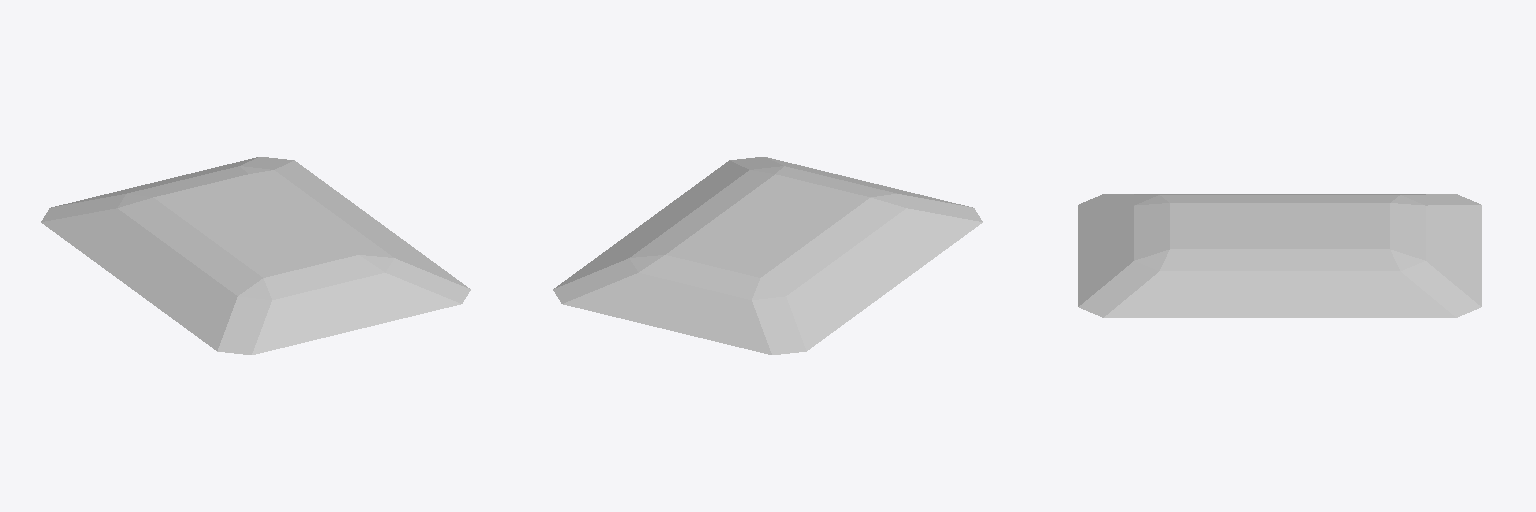
File: gem-4-flat-long.obj
3 renders of one model, left to right at view 1: azimuth 30°, elevation 25°; view 2: azimuth 150°, elevation 25°; view 3: azimuth 270°, elevation 25°, orthographic.
Parts seen in each view (by area): view 1: gem_Cube; view 2: gem_Cube; view 3: gem_Cube.
Boxes of the visible parts, box(x1,y1,x2,y2) form: gem_Cube: box(41, 157, 470, 354); gem_Cube: box(553, 157, 982, 354); gem_Cube: box(1078, 194, 1481, 317).
Bounding box in the file's own units: 15.95 × 3.58 × 21.95.